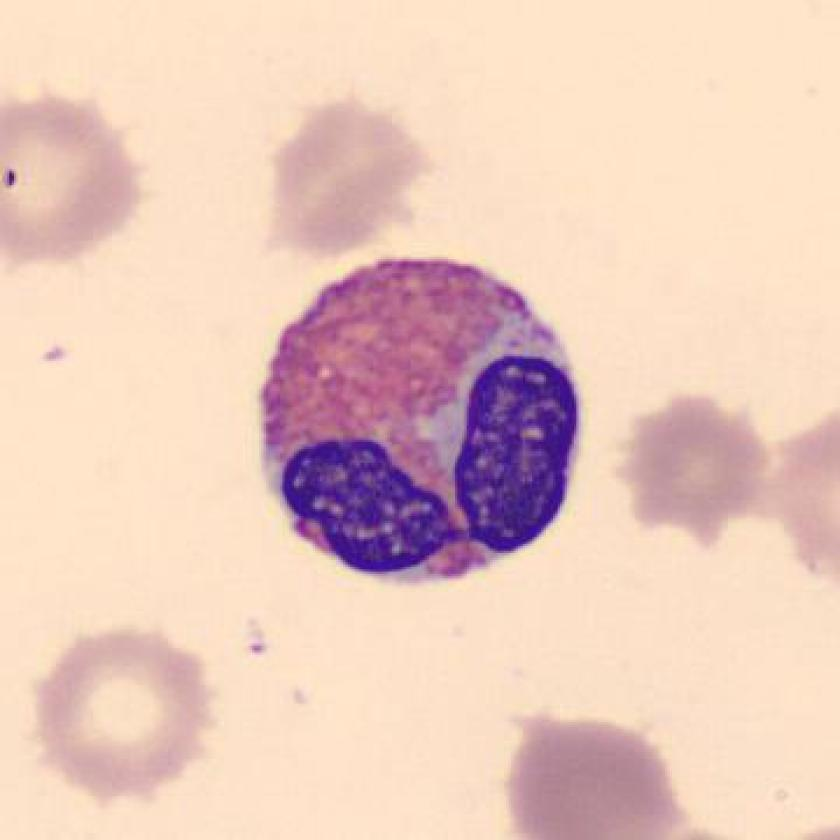eosinophil: (244, 244, 601, 598)
